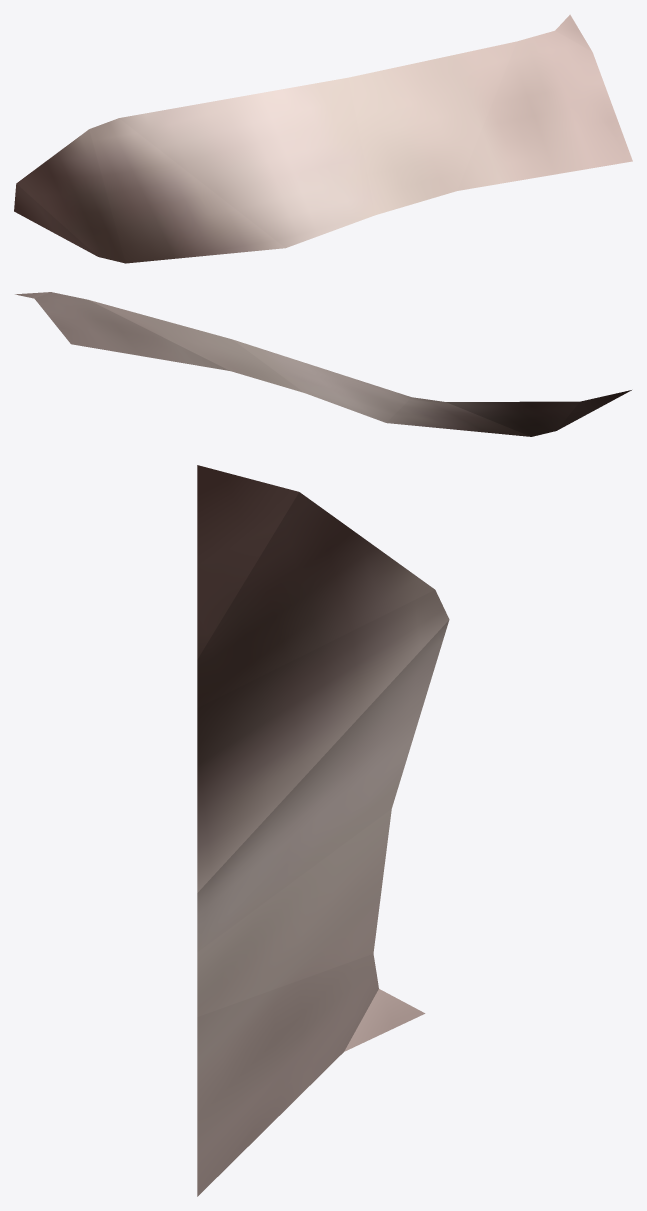
The picture shows the model from 3 angles, top to bottom: view 1: azimuth 30°, elevation 25°; view 2: azimuth 150°, elevation 25°; view 3: azimuth 270°, elevation 25°; orthographic projection. The views are drawn at different scales.
Size of the model in its own units: 0.1094 by 0.0174 by 0.0212.
Materials: 1 (1 with a texture image).
